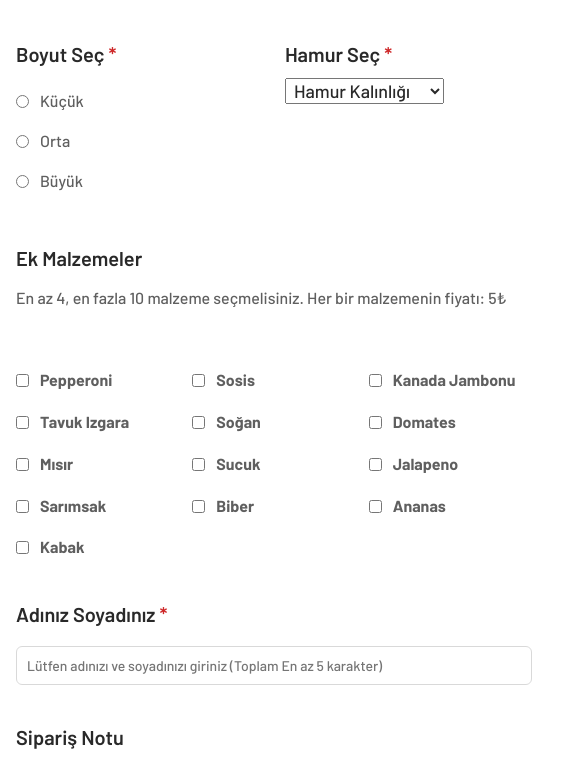
Test: Pizza Sipariş Formu Testleri › Adet artırıldığında sipariş toplam tutarı doğru hesaplanmalı
(page scrolled)
Check the checkbox with test id "malzeme-Pepperoni".
click(23, 381)  # box [16,374,29,387]
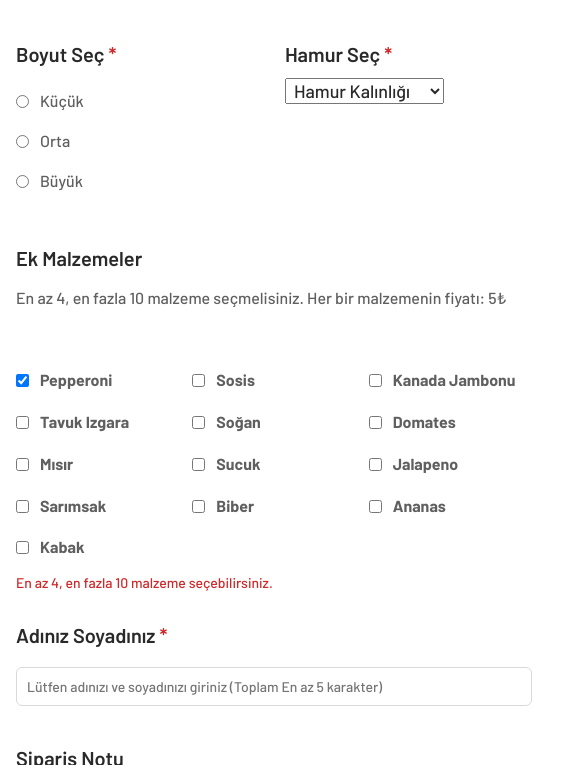
Check the checkbox with test id "malzeme-Sosis".
click(199, 381)  # box [192,374,205,387]
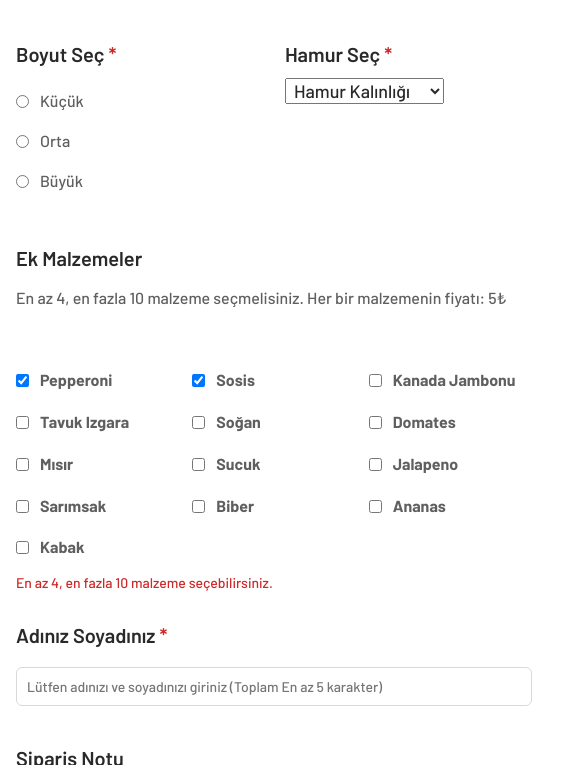
Check the checkbox with test id "malzeme-Mısır".
click(23, 465)  # box [16,458,29,471]
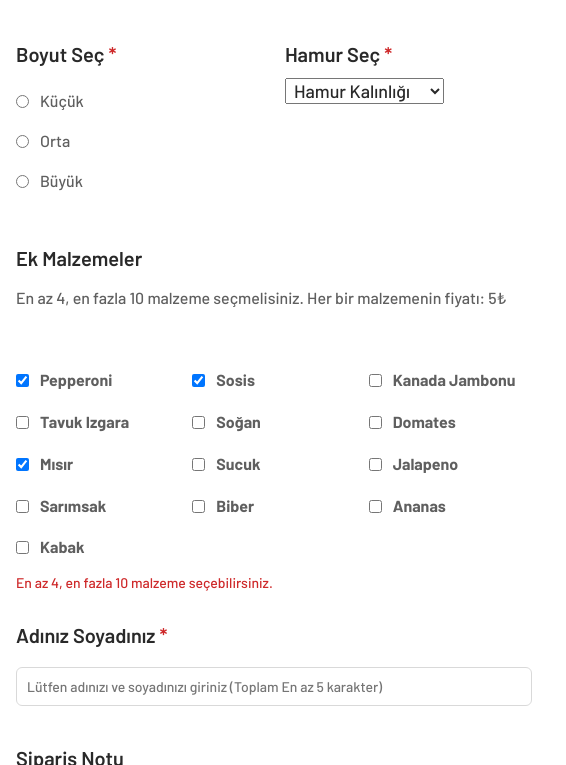
Check the checkbox with test id "malzeme-Domates".
click(376, 423)  # box [369,416,382,429]
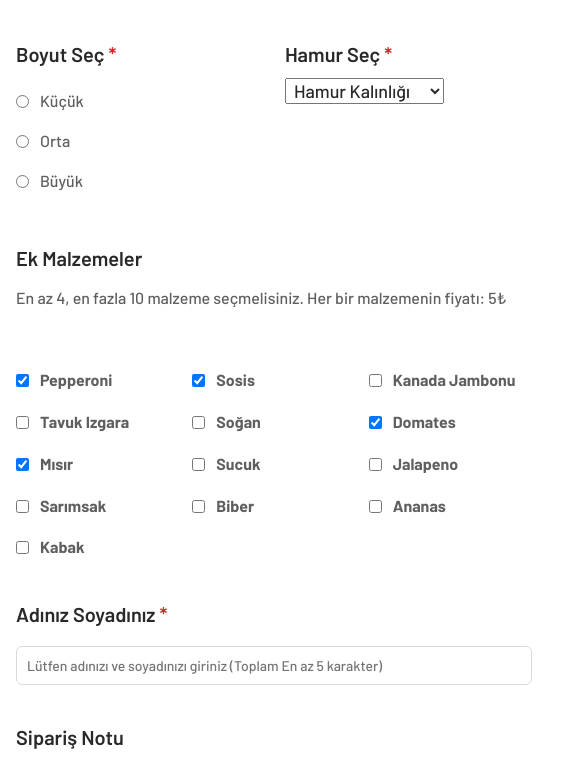
Scroll
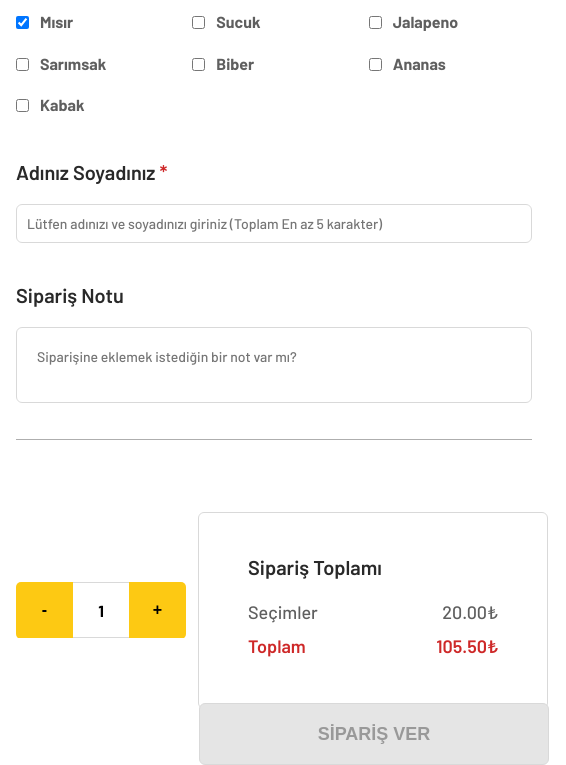
Click the button with test id "counter-arttir".
click(158, 610)  # box [129,582,186,638]
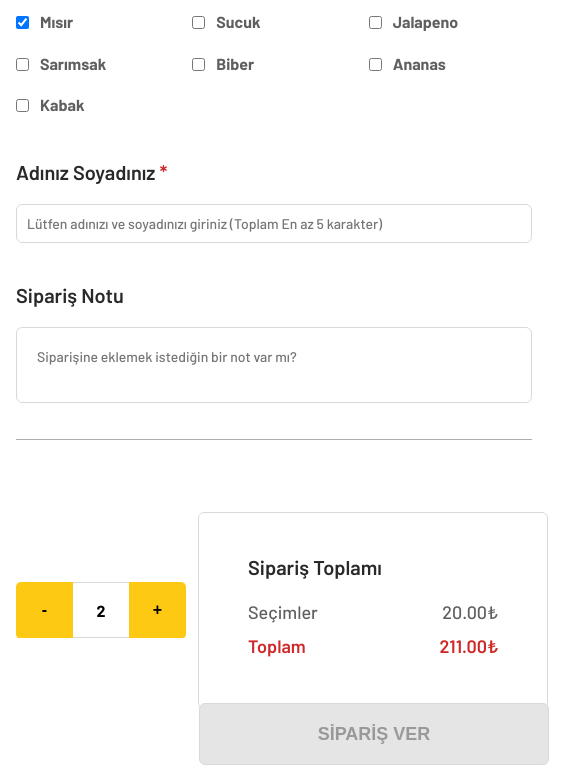
Check: the text with test id "counter-value" reads "2", box [73,582,129,638]
Check: the text "211.00₺" is shown, box [440,635,498,657]
